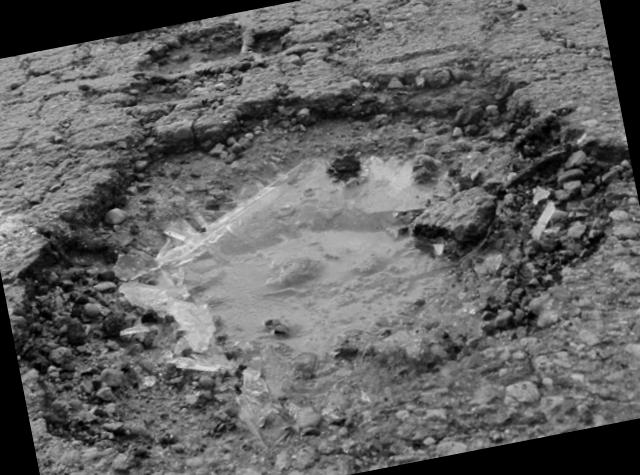Pothole: (0, 15, 640, 475), (101, 0, 328, 126)
